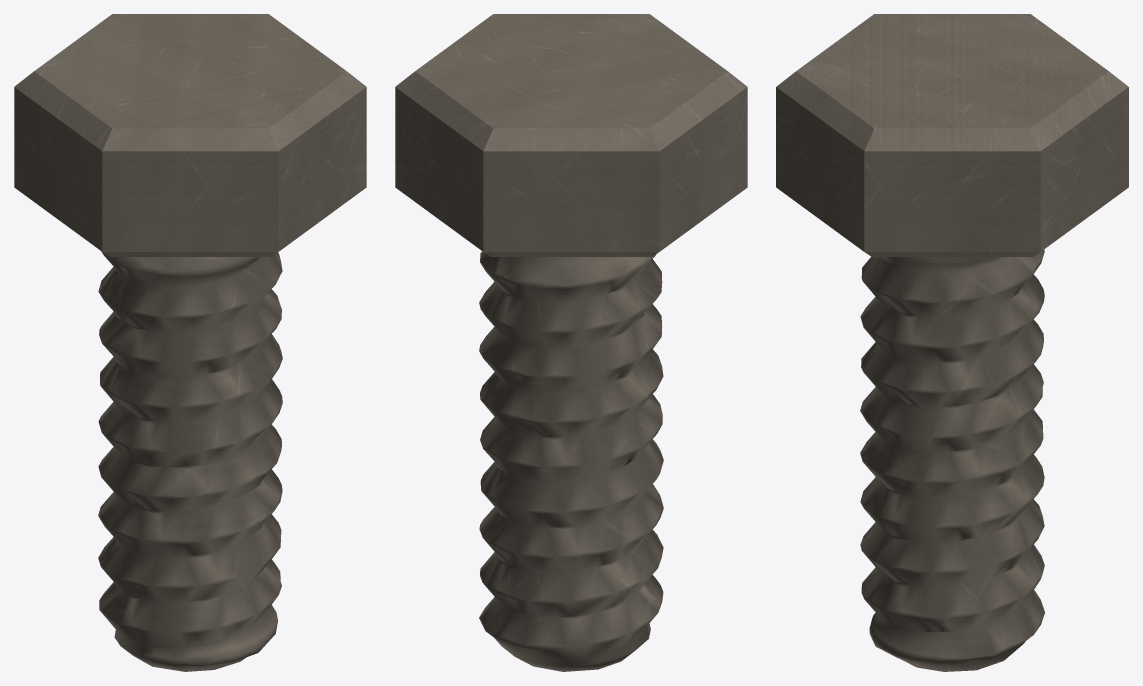
The model's file is Pickup_Bolt.fbx.
3 views of the same model, side by side, from view 1: azimuth 30°, elevation 25°; view 2: azimuth 150°, elevation 25°; view 3: azimuth 270°, elevation 25° (orthographic).
Parts seen in each view (by area): view 1: Pickup_Bolt; view 2: Pickup_Bolt; view 3: Pickup_Bolt.
Part boxes in pixels (x1,y1,x2,y2): Pickup_Bolt: (14,14,366,671); Pickup_Bolt: (395,14,747,671); Pickup_Bolt: (776,14,1128,671).
Bounding box in the file's own units: 2.12 × 4.4 × 2.45.
